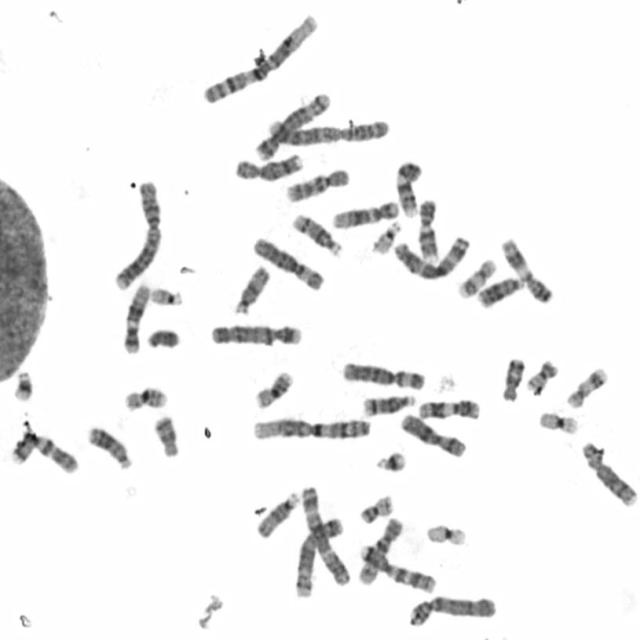A1: (198, 10, 320, 106), (249, 413, 374, 443)
A2: (111, 177, 163, 290), (262, 112, 391, 147)
A3: (298, 482, 352, 586), (390, 232, 471, 281)
B4: (403, 590, 498, 628), (206, 320, 304, 348)
B5: (253, 89, 333, 162), (290, 514, 344, 599)
C10: (356, 514, 405, 586), (282, 165, 351, 204)
C11: (498, 234, 554, 306), (415, 396, 482, 421)
C12: (120, 280, 152, 356), (329, 197, 400, 229)
C6: (250, 233, 326, 292), (339, 358, 426, 391)
C7: (356, 541, 437, 594), (8, 430, 79, 475)
C8: (578, 438, 638, 508), (231, 150, 305, 182)
C9: (393, 158, 424, 219), (414, 195, 440, 263)
D13: (84, 422, 132, 471), (474, 272, 526, 310)
D14: (289, 210, 344, 258), (359, 390, 416, 418)
D15: (253, 488, 301, 540), (231, 263, 272, 316)
E16: (252, 368, 295, 410), (121, 383, 170, 413)
E17: (563, 363, 610, 411), (454, 256, 499, 301)
E18: (151, 412, 181, 459), (499, 354, 527, 402)
F19: (422, 520, 469, 548), (536, 408, 580, 436)
F20: (523, 356, 560, 394), (357, 491, 395, 525)
G21: (372, 448, 408, 474), (10, 367, 36, 403)
G22: (369, 218, 404, 254), (148, 284, 185, 308)
X: (398, 410, 468, 459)
Y: (144, 326, 180, 350)
